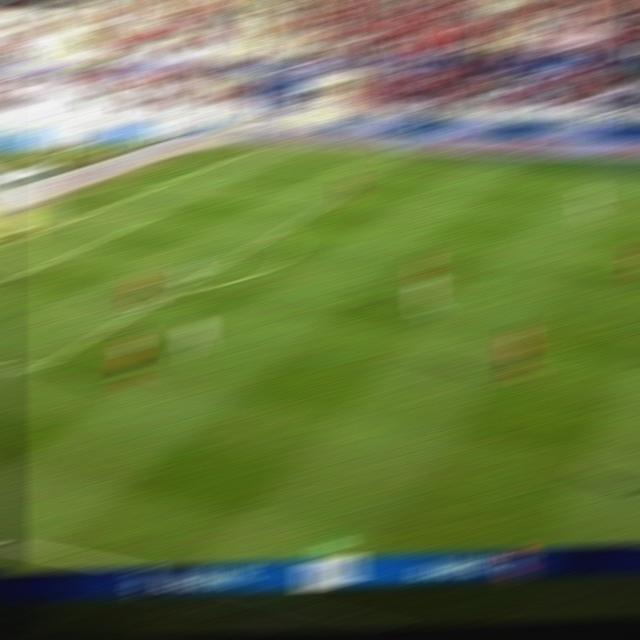bigarea_bottom_inner: (18, 354, 51, 379)
bigarea_top_inner: (327, 187, 352, 199)
bigarea_top_outter: (157, 174, 182, 186)
corner: (226, 148, 253, 156)
smallarea_top_inner: (139, 210, 164, 219)
smallarea_top_outter: (83, 203, 109, 214)
top_arc_area_intersection: (261, 224, 290, 237)
